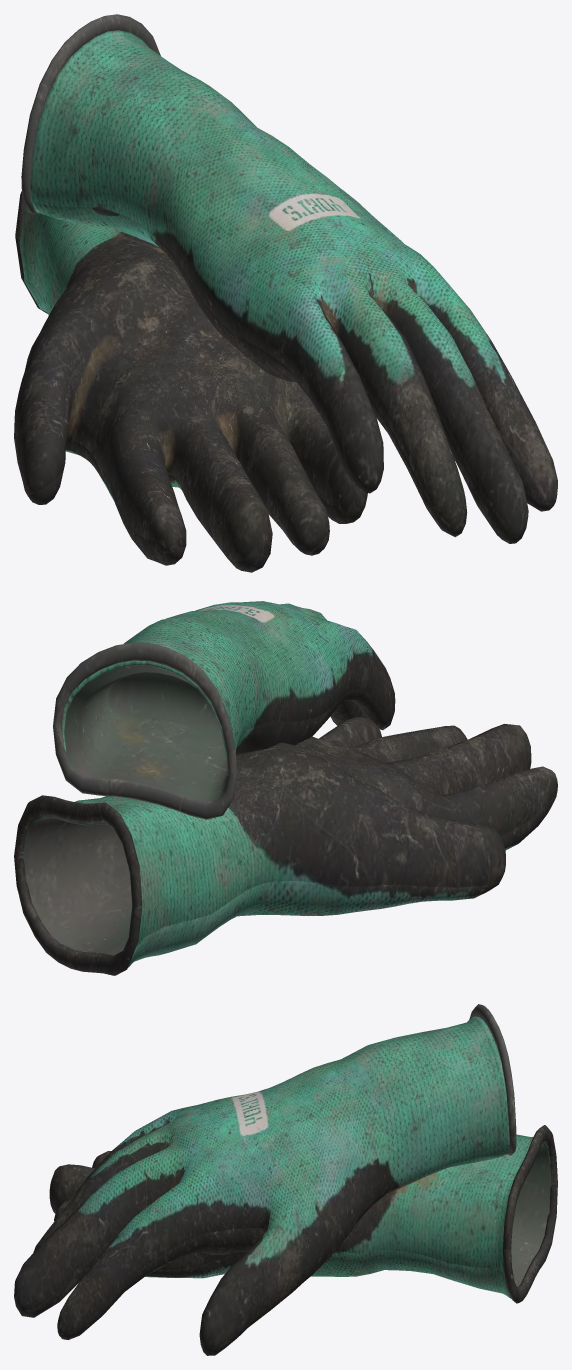
Rendered from garden_gloves.glb.
3 views of the same model, one above another, from view 1: azimuth 30°, elevation 25°; view 2: azimuth 150°, elevation 25°; view 3: azimuth 270°, elevation 25° (orthographic). The views are drawn at different scales.
Visible parts, largest first — view 1: garden_gloves_01.001; view 2: garden_gloves_01.001; view 3: garden_gloves_01.001.
Boxes of the visible parts, <box> form: garden_gloves_01.001: <box>14,14,557,572</box>; garden_gloves_01.001: <box>14,601,557,975</box>; garden_gloves_01.001: <box>14,1004,557,1355</box>.
Size of the model in its own units: 5.25 by 3.74 by 6.93.
1 material, 1 textured.
